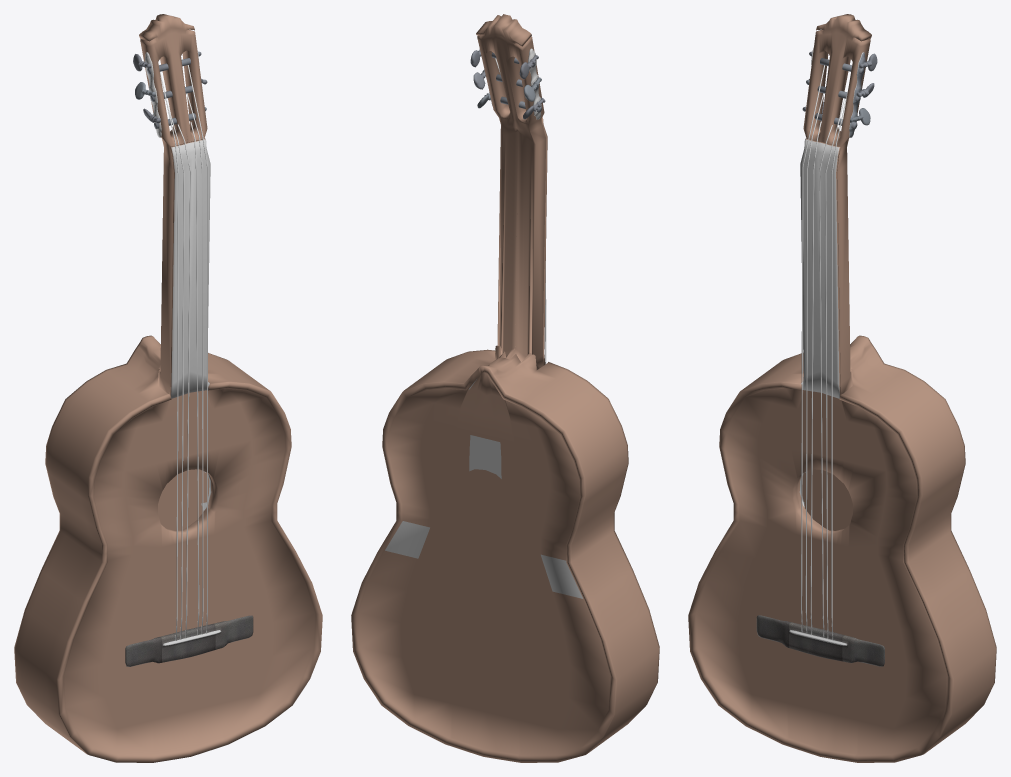
Rendered from guitar.fbx.
3 renders of one model, left to right at view 1: azimuth 30°, elevation 25°; view 2: azimuth 150°, elevation 25°; view 3: azimuth 330°, elevation 25°, orthographic.
Visible parts, largest first — view 1: Guitar, Dashboard, Strings, Bridge, Guitar__interior_, Head, Turning_Keys; view 2: Guitar, Turning_Keys, Head, Dashboard; view 3: Guitar, Dashboard, Strings, Bridge, Guitar__interior_, Head, Turning_Keys.
Part boxes in pixels (x1=…): Guitar: x1=14, y1=14, x2=322, y2=762; Dashboard: x1=169, y1=138, x2=210, y2=398; Strings: x1=160, y1=65, x2=207, y2=640; Bridge: x1=125, y1=615, x2=253, y2=666; Guitar__interior_: x1=158, y1=469, x2=209, y2=530; Head: x1=144, y1=51, x2=199, y2=137; Turning_Keys: x1=133, y1=51, x2=207, y2=123; Guitar: x1=351, y1=14, x2=659, y2=762; Turning_Keys: x1=470, y1=49, x2=545, y2=119; Head: x1=490, y1=48, x2=541, y2=119; Dashboard: x1=541, y1=117, x2=547, y2=365; Guitar: x1=688, y1=14, x2=996, y2=762; Dashboard: x1=800, y1=138, x2=841, y2=398; Strings: x1=801, y1=65, x2=847, y2=640; Bridge: x1=756, y1=615, x2=884, y2=666; Guitar__interior_: x1=802, y1=469, x2=852, y2=530; Head: x1=811, y1=48, x2=865, y2=137; Turning_Keys: x1=802, y1=51, x2=877, y2=125.
Size of the model in its own units: 10.01 by 26.16 by 3.14.
